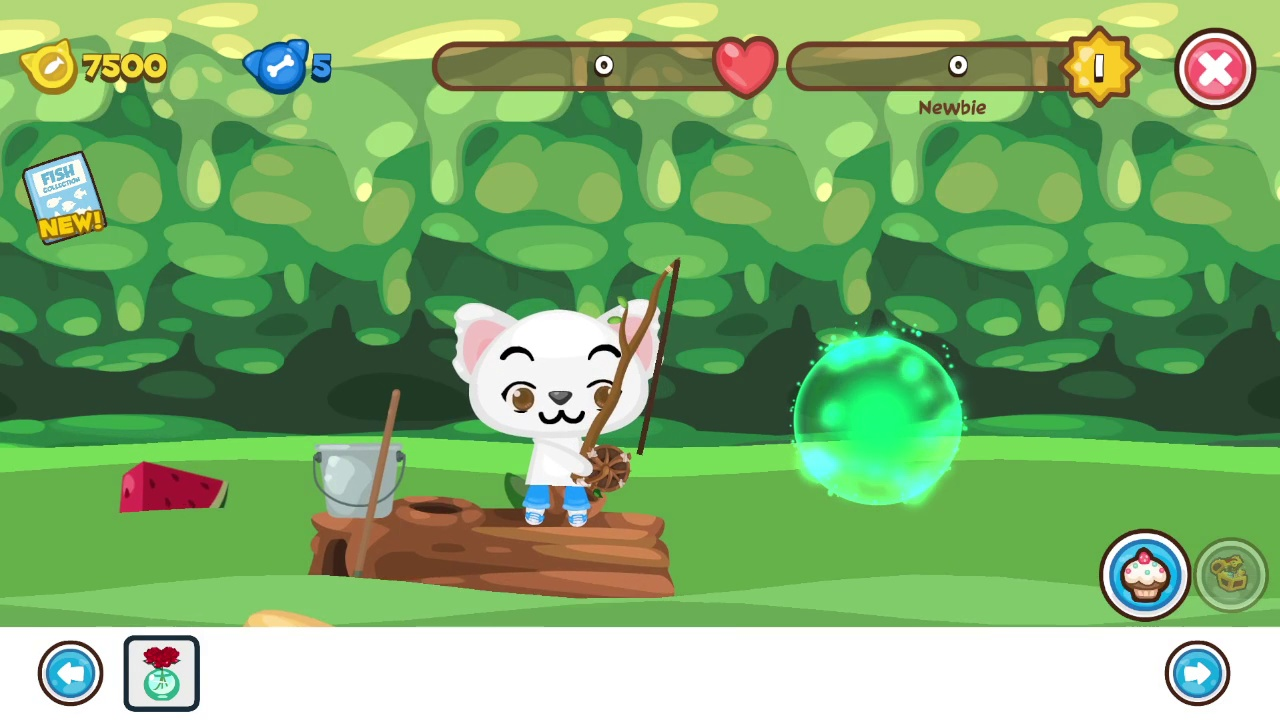point: (794, 334, 964, 510)
